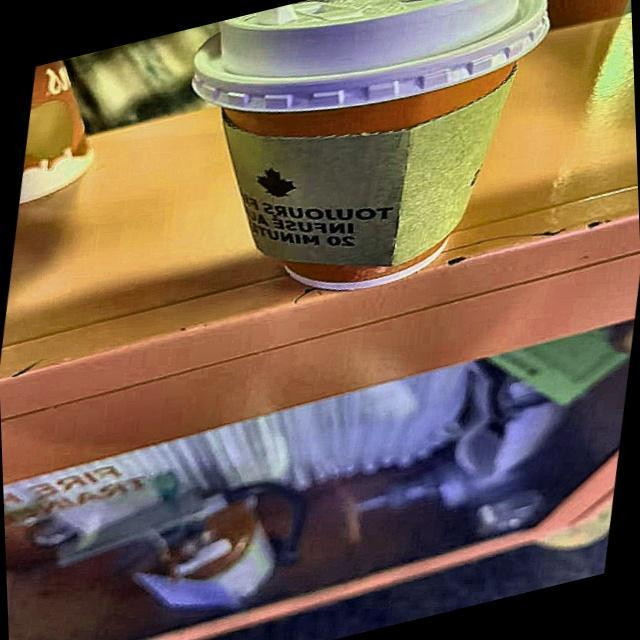timmies: (185, 0, 550, 304)
